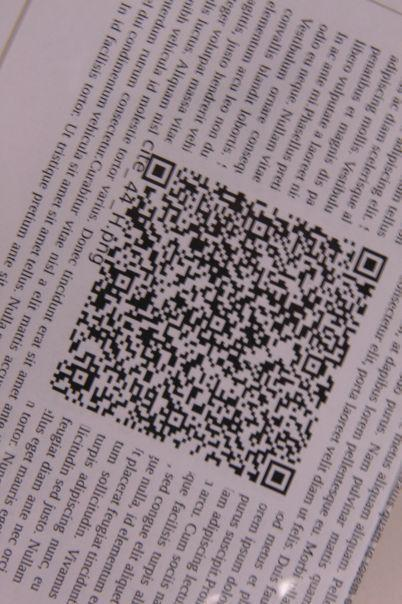qr_code: (49, 153, 388, 498)
